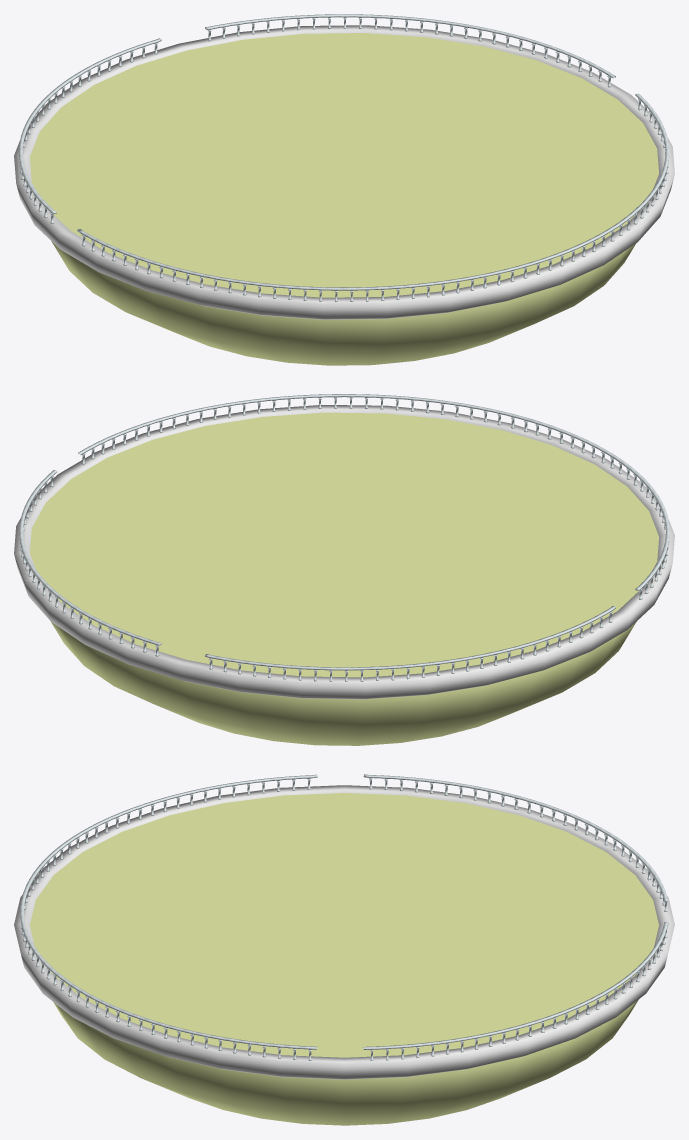
The model's file is LargePlatform_ThreeGate.fbx.
3 views of the same model, one above another, from view 1: azimuth 30°, elevation 25°; view 2: azimuth 150°, elevation 25°; view 3: azimuth 270°, elevation 25° (orthographic).
Visible parts, largest first — view 1: GrassPlatform, Circle, GrassShader, PlatformRailing; view 2: GrassPlatform, Circle, GrassShader, PlatformRailing; view 3: GrassPlatform, Circle, GrassShader, PlatformRailing.
Boxes of the visible parts, x1=… form: GrassPlatform: x1=30, y1=33, x2=658, y2=297; Circle: x1=14, y1=25, x2=674, y2=319; GrassShader: x1=51, y1=241, x2=635, y2=365; PlatformRailing: x1=19, y1=14, x2=669, y2=301; GrassPlatform: x1=30, y1=412, x2=658, y2=677; Circle: x1=14, y1=405, x2=674, y2=699; GrassShader: x1=50, y1=621, x2=636, y2=745; PlatformRailing: x1=19, y1=394, x2=669, y2=681; GrassPlatform: x1=30, y1=793, x2=658, y2=1057; Circle: x1=14, y1=785, x2=674, y2=1079; GrassShader: x1=53, y1=999, x2=638, y2=1125; PlatformRailing: x1=20, y1=774, x2=668, y2=1060.
Size of the model in its own units: 22500 by 6090 by 22500.
